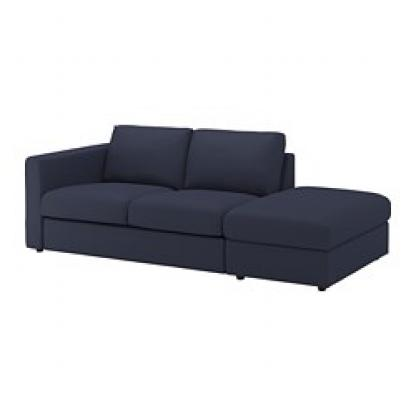Sofa: (15, 98, 393, 311)
